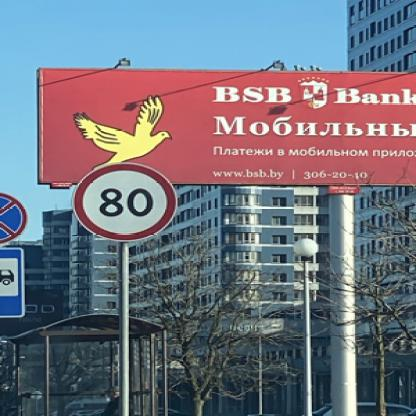speedlimit: (69, 162, 176, 240)
